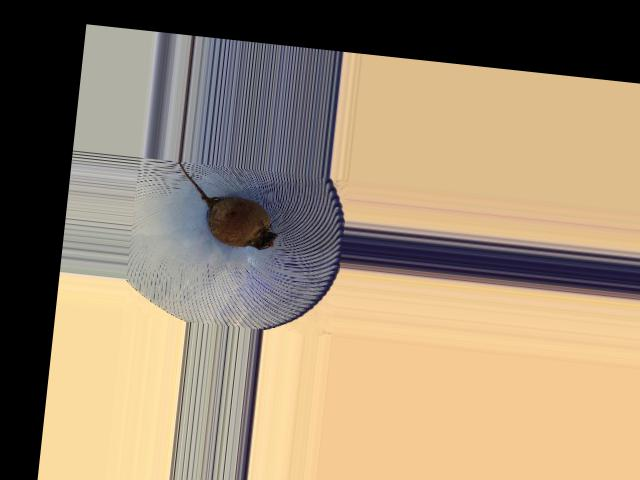beet: (171, 160, 284, 250)
